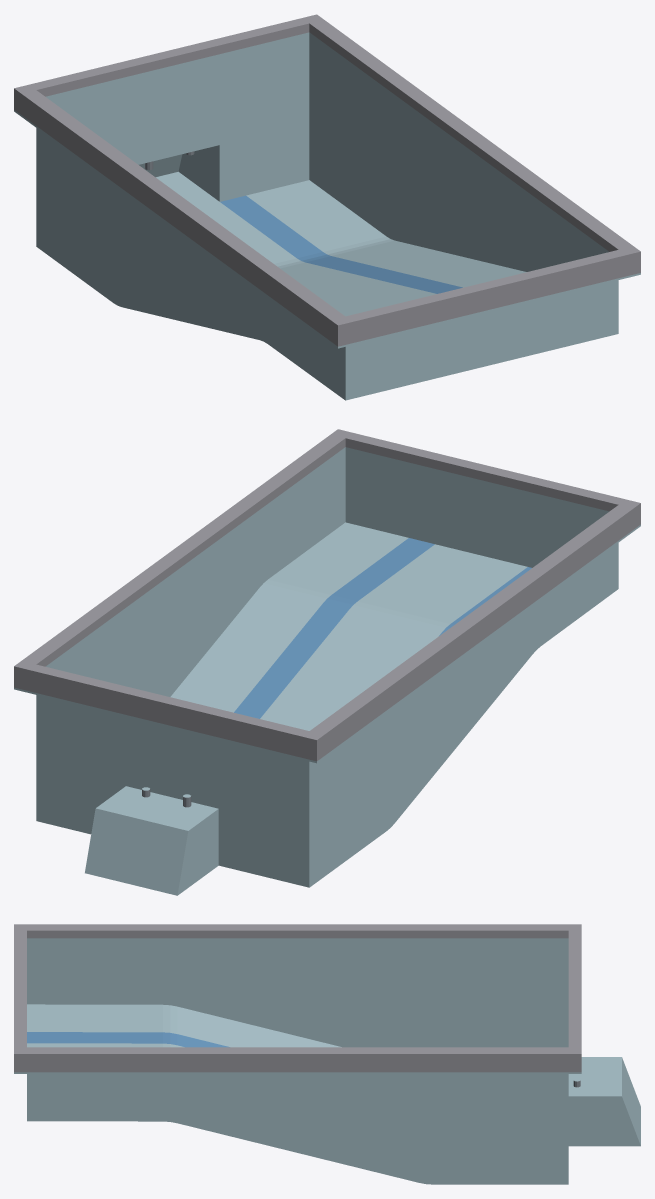
The model's file is O_Enviroment_Pool_2.fbx.
The picture shows the model from 3 angles, top to bottom: view 1: azimuth 30°, elevation 25°; view 2: azimuth 150°, elevation 25°; view 3: azimuth 270°, elevation 25°; orthographic projection. The views are drawn at different scales.
Visible parts, largest first — view 1: pPlane2; view 2: pPlane2; view 3: pPlane2.
Part boxes in pixels (bbox=[...]): pPlane2: bbox=[14, 14, 640, 400]; pPlane2: bbox=[14, 429, 640, 895]; pPlane2: bbox=[14, 924, 640, 1184].
Bounding box in the file's own units: 8.47 × 4.18 × 17.34.
